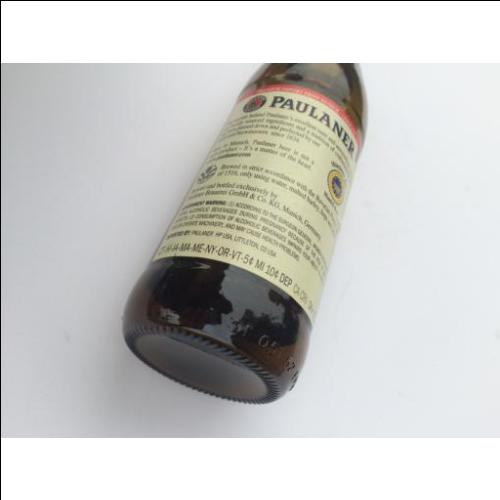glass: (124, 62, 366, 401)
